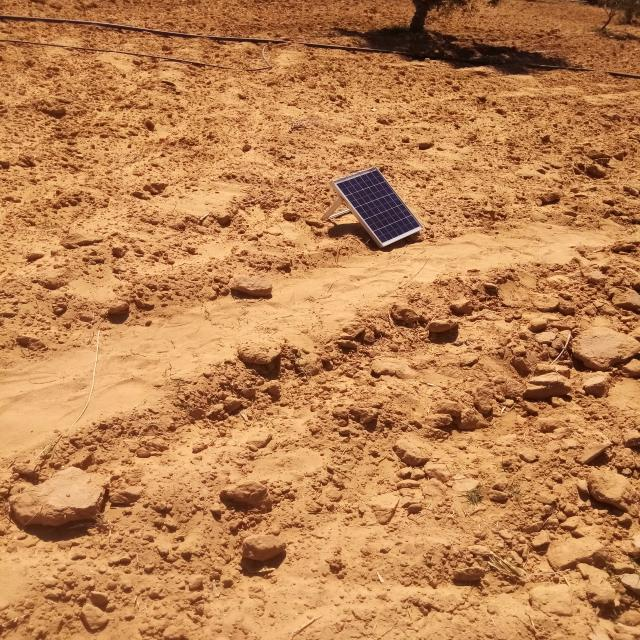no faulty: (333, 166, 423, 246)
